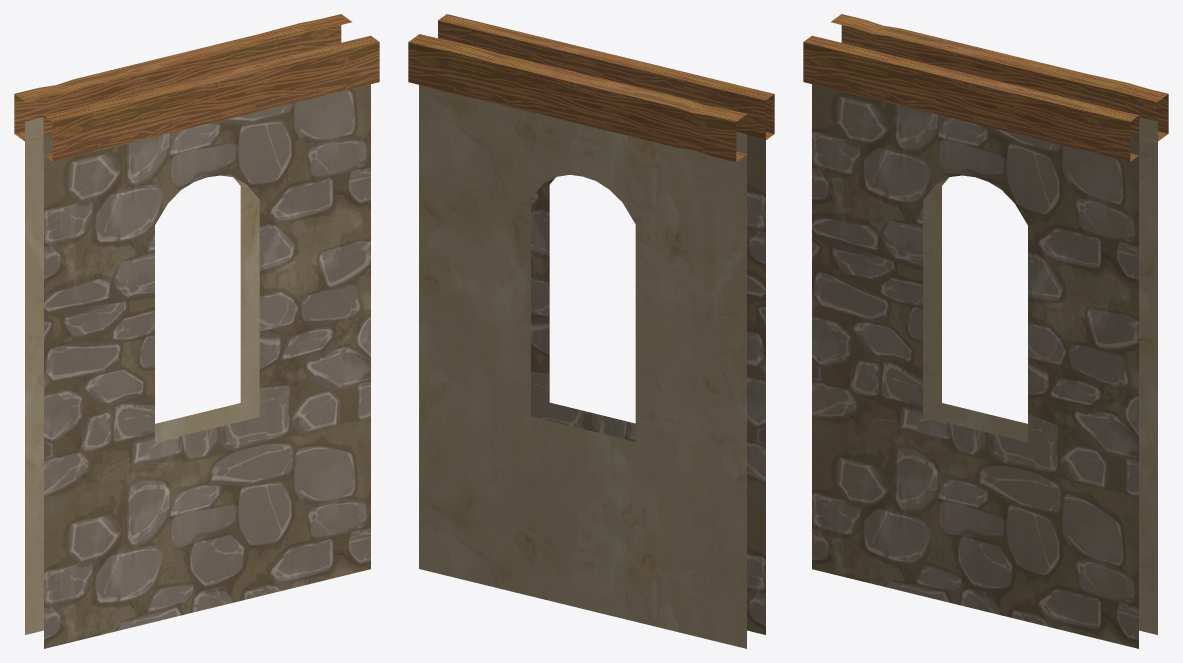
Rendered from Wall_UnevenBrick_Window_Thin_Round.gltf.
3 views of the same model, side by side, from view 1: azimuth 30°, elevation 25°; view 2: azimuth 150°, elevation 25°; view 3: azimuth 330°, elevation 25° (orthographic).
Visible parts, largest first — view 1: Wall_UnevenBrick_Window_Thin_Round; view 2: Wall_UnevenBrick_Window_Thin_Round; view 3: Wall_UnevenBrick_Window_Thin_Round.
Boxes of the visible parts, x1,y1,x2,y2 form: Wall_UnevenBrick_Window_Thin_Round: [14, 14, 379, 648]; Wall_UnevenBrick_Window_Thin_Round: [408, 14, 774, 648]; Wall_UnevenBrick_Window_Thin_Round: [803, 14, 1168, 648].
Size of the model in its own units: 2 by 3.12 by 0.4065.
Materials: 3 (3 with a texture image).
